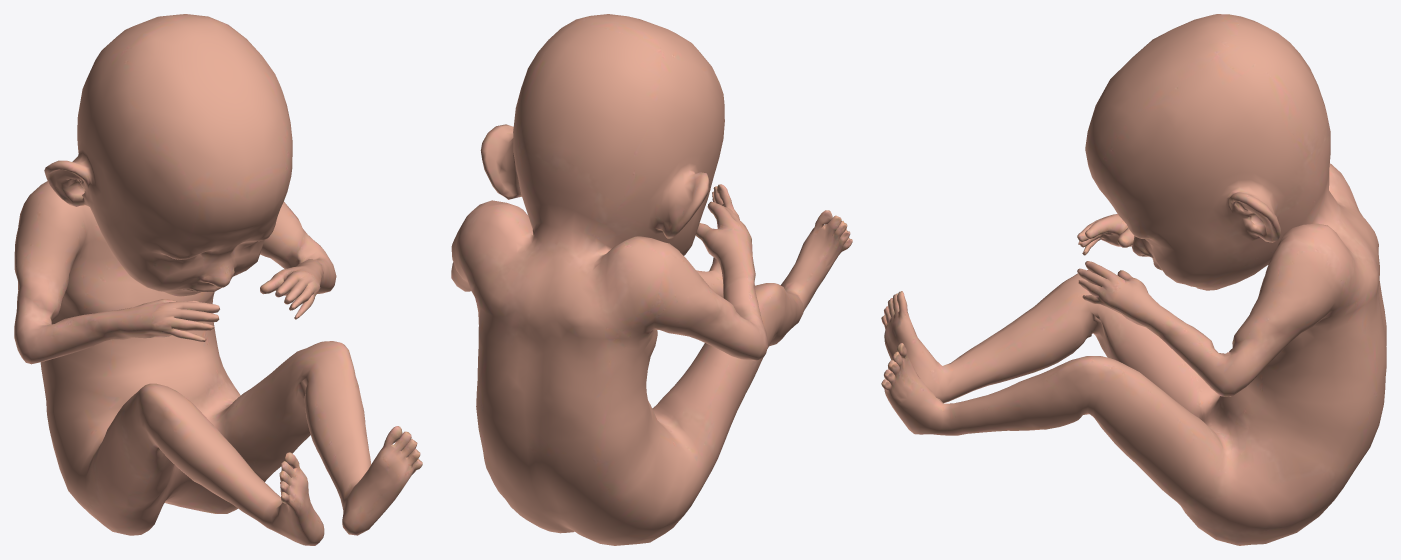
3 views of the same model, side by side, from view 1: azimuth 30°, elevation 25°; view 2: azimuth 150°, elevation 25°; view 3: azimuth 270°, elevation 25° (orthographic).
Parts seen in each view (by area): view 1: Baby; view 2: Baby; view 3: Baby.
Boxes of the visible parts, x1,y1,x2,y2 form: Baby: [14, 14, 422, 545]; Baby: [451, 14, 852, 545]; Baby: [881, 14, 1386, 545].
Size of the model in its own units: 0.1827 by 0.2815 by 0.2585.
Materials: 1 (1 with a texture image).
